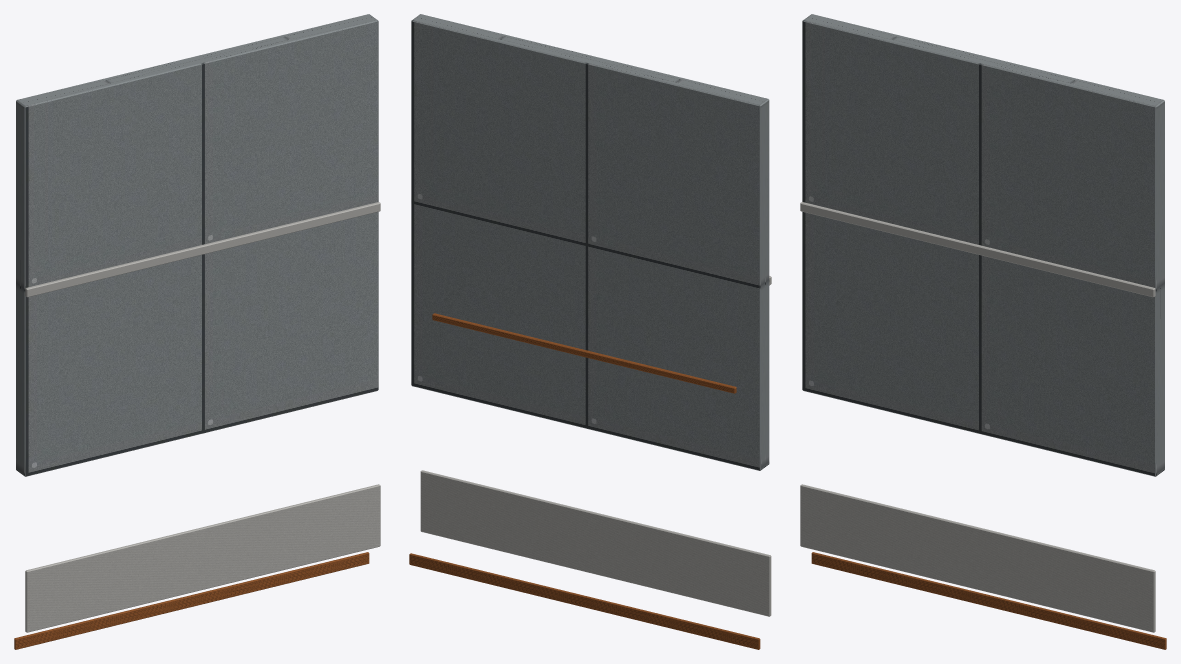
File: japanese-school-and-city-street-classroom-wall-plain-92ba8303__30047.glb
The picture shows the model from 3 angles, left to right: view 1: azimuth 30°, elevation 25°; view 2: azimuth 150°, elevation 25°; view 3: azimuth 330°, elevation 25°; orthographic projection.
Visible parts, largest first — view 1: classroom-wall-plain; view 2: classroom-wall-plain; view 3: classroom-wall-plain.
Part boxes in pixels (x1,y1,x2,y2): classroom-wall-plain: (14, 14, 380, 649); classroom-wall-plain: (409, 14, 771, 649); classroom-wall-plain: (800, 14, 1166, 649).
Bounding box in the file's own units: 3 × 4.45 × 0.2.
3 materials, 3 textured.
